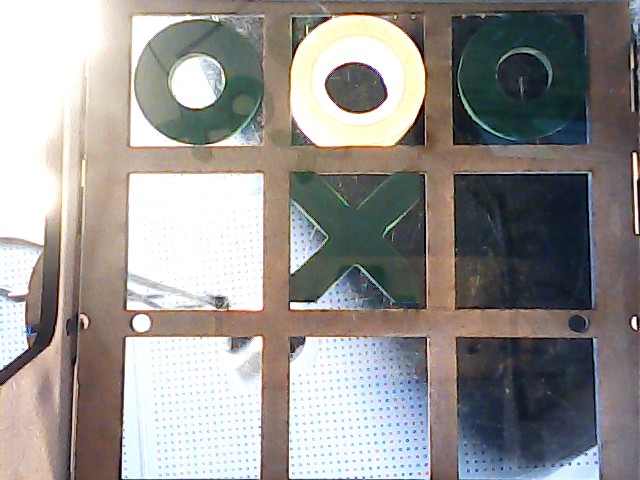O: (453, 14, 587, 137), (134, 20, 261, 149)
X: (291, 172, 430, 308)
